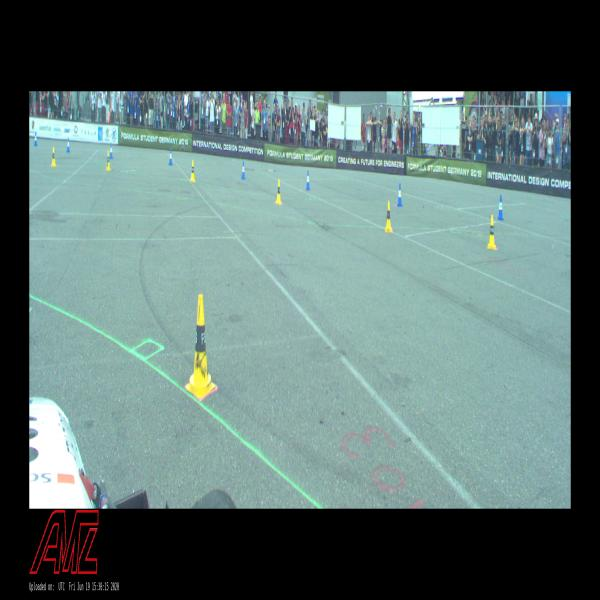blue_cone: (497, 194, 503, 220), (397, 183, 402, 206), (168, 148, 173, 166), (306, 170, 310, 190), (241, 161, 245, 179), (33, 132, 38, 146), (66, 138, 70, 152), (110, 143, 113, 158)
yellow_cone: (186, 295, 216, 398), (487, 215, 496, 249), (384, 200, 392, 232), (275, 179, 282, 204), (50, 147, 57, 166), (190, 160, 195, 181), (105, 150, 110, 170)
